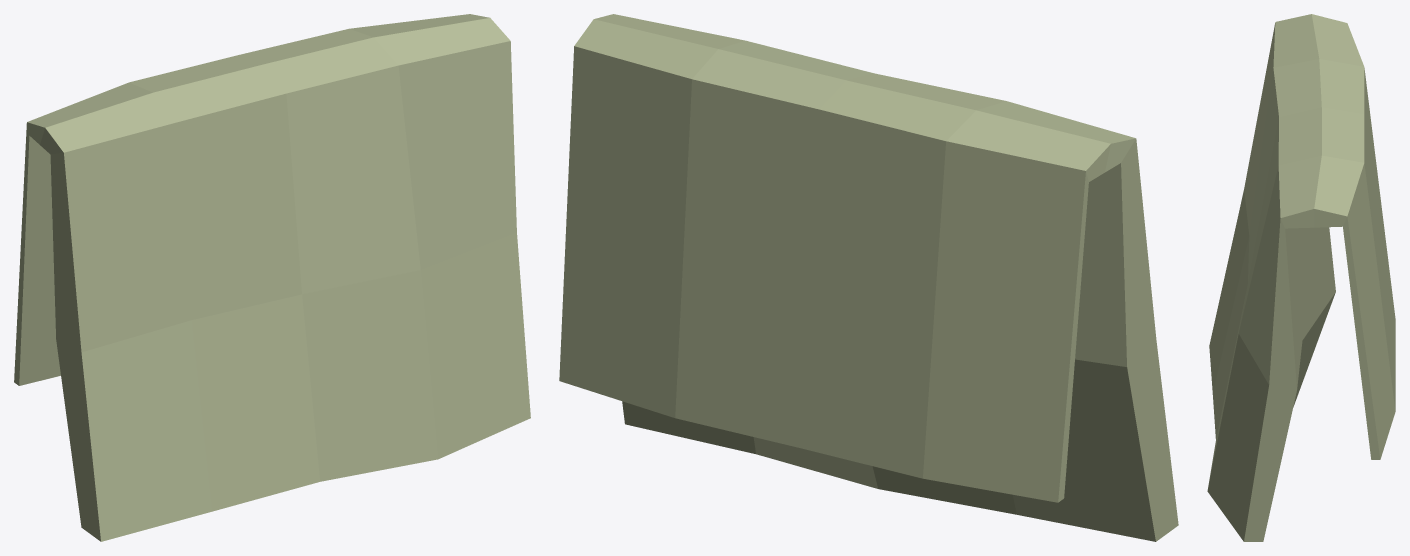
File: Stove_Towel.fbx
3 views of the same model, side by side, from view 1: azimuth 30°, elevation 25°; view 2: azimuth 150°, elevation 25°; view 3: azimuth 270°, elevation 25° (orthographic). The views are drawn at different scales.
Visible parts, largest first — view 1: Stove_Towel; view 2: Stove_Towel; view 3: Stove_Towel.
Part boxes in pixels (bbox=[...]): Stove_Towel: bbox=[14, 14, 530, 541]; Stove_Towel: bbox=[559, 14, 1178, 541]; Stove_Towel: bbox=[1207, 14, 1395, 541].
Size of the model in its own units: 40.85 by 16.54 by 32.68.
